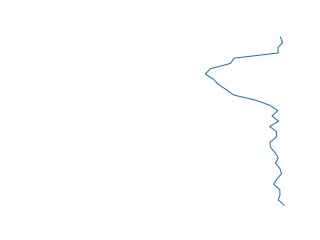distalBar: (197, 37, 292, 205)
